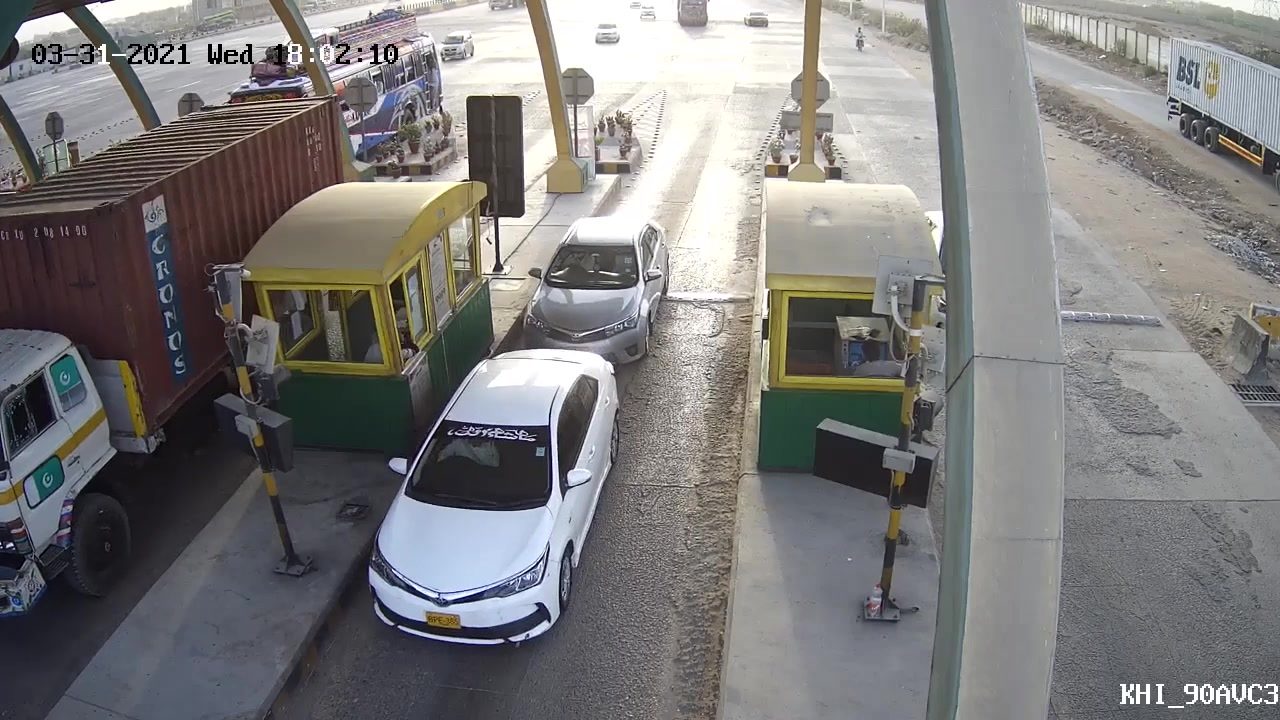F1: (360, 342, 651, 652)
